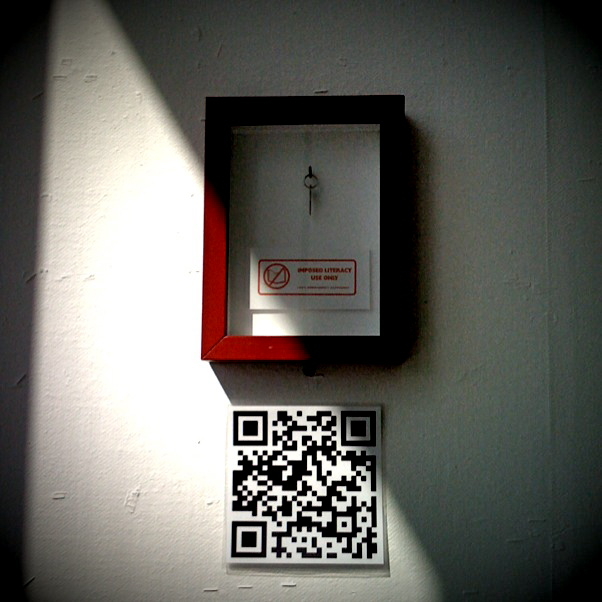QR-CODE: (231, 411, 376, 558)
